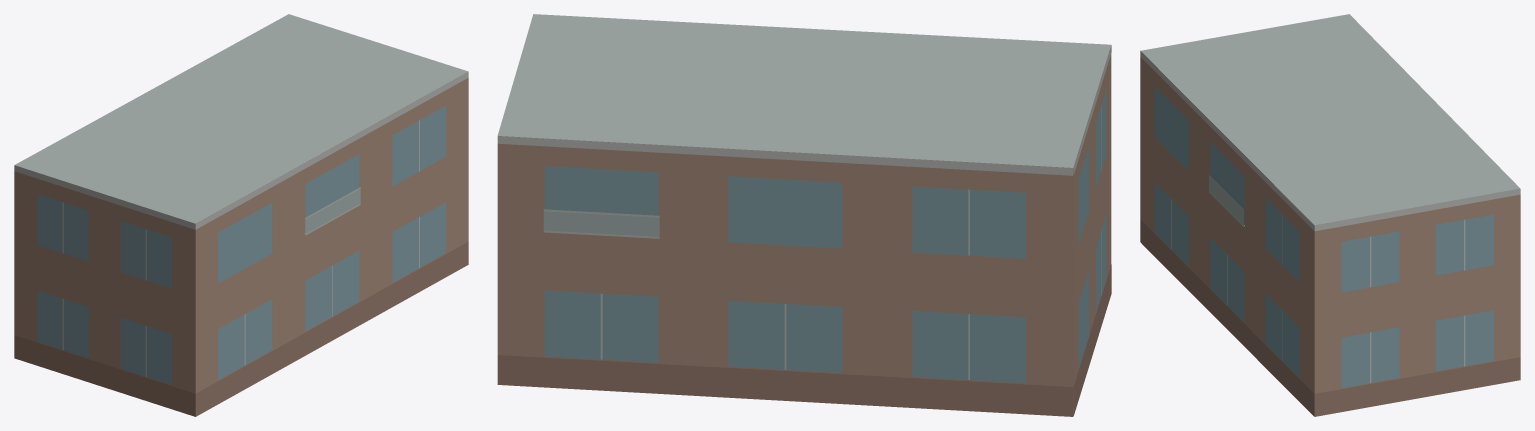
The model's file is survey-upis-32851348.glb.
3 views of the same model, side by side, from view 1: azimuth 30°, elevation 25°; view 2: azimuth 150°, elevation 25°; view 3: azimuth 270°, elevation 25° (orthographic). The views are drawn at different scales.
Visible parts, largest first — view 1: survey-upis-32851348.tmp; view 2: survey-upis-32851348.tmp; view 3: survey-upis-32851348.tmp.
Part boxes in pixels (x1,y1,x2,y2): survey-upis-32851348.tmp: (14, 14, 468, 416); survey-upis-32851348.tmp: (497, 14, 1111, 416); survey-upis-32851348.tmp: (1140, 14, 1520, 416).
Size of the model in its own units: 18.35 by 7.75 by 13.95.
